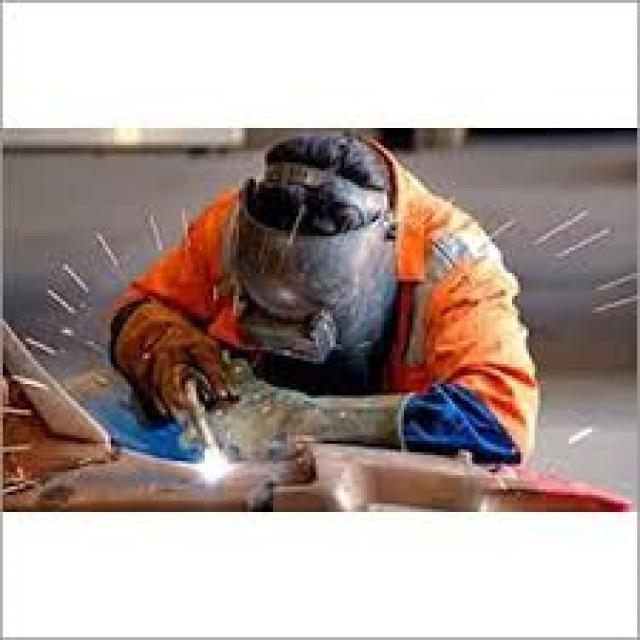reflective_jacket: (99, 153, 557, 458)
